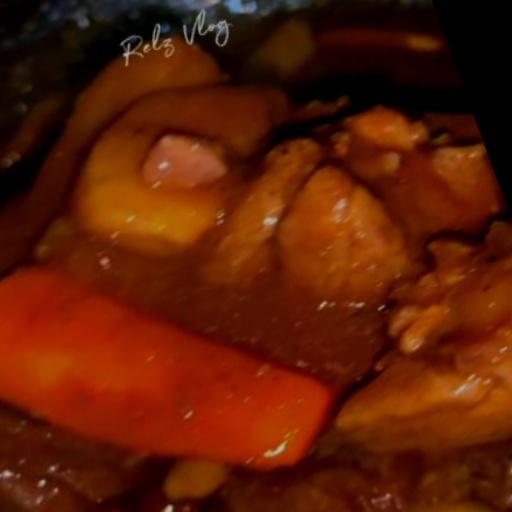pork caldereta: (0, 33, 511, 511)
